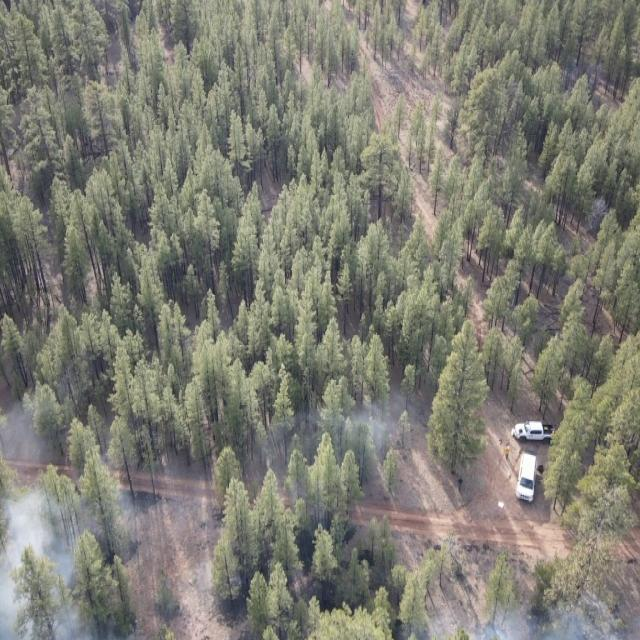smoke: (0, 399, 135, 640), (399, 560, 640, 640), (260, 399, 382, 499)
